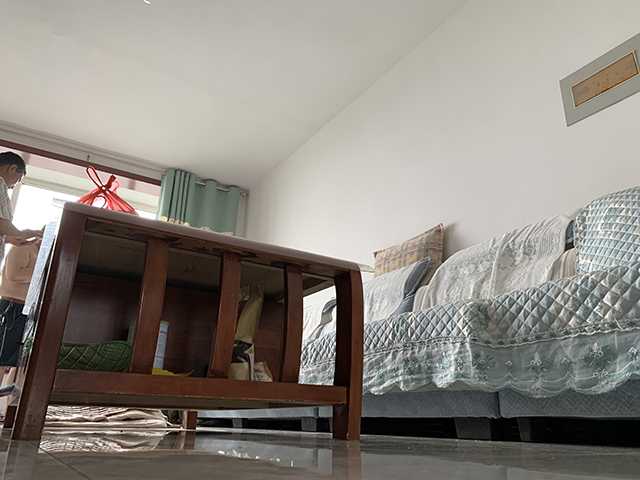sofa: (299, 184, 640, 442)
table: (2, 199, 377, 443)
